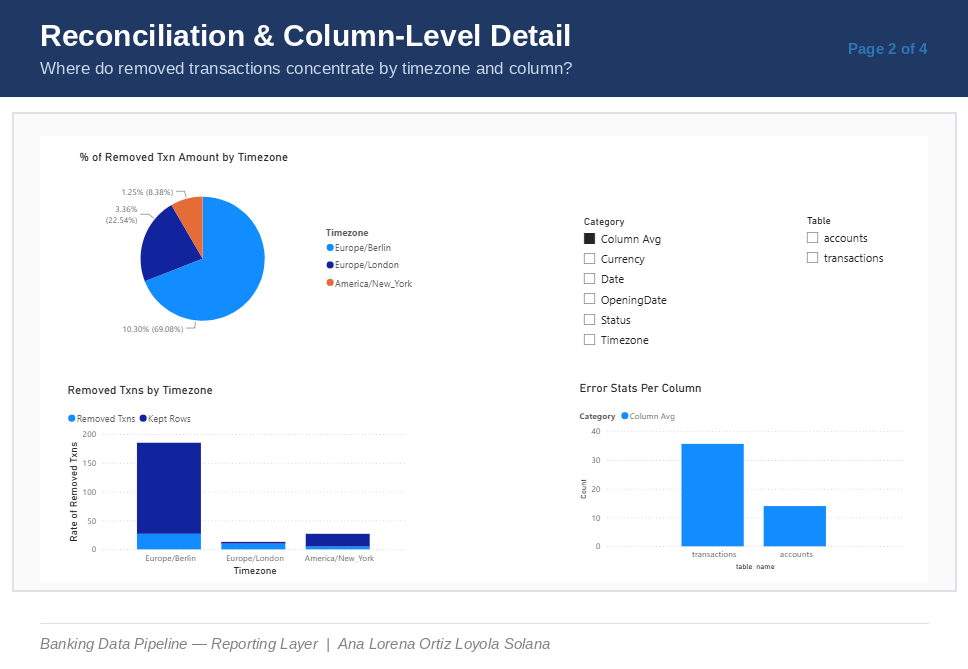

This screenshot's page, from the dashboard's own definition file:
{"tool":"powerbi","page":{"name":"Página 3","canvas":[1280,720],"ordinal":1},"visuals":[{"type":"pieChart","title":"% of Removed Txn Amount by Timezone","fields":{"Category":["MatchingTimezones.Timezone"],"Y":["Sum(MatchingTimezones.PctLostFromTotal)"]},"box":[16.5,30.1,494.8,280.5],"z":0},{"type":"columnChart","title":"Removed Txns by Timezone","fields":{"Category":["MatchingTimezones.Timezone"],"Y":["Sum(MatchingTimezones.TotalTxnsRemoved)","Sum(MatchingTimezones.TotalTxnsKept)"]},"box":[0,362.5,495,281],"z":1000},{"type":"slicer","fields":{"Values":["CategoryWithAvgPerTable.Category"]},"box":[730.3,118.4,171.1,209.2],"z":3000},{"type":"clusteredColumnChart","title":"Error Stats Per Column","fields":{"Category":["CategoryWithAvgPerTable.table_name"],"Series":["CategoryWithAvgPerTable.Category"],"Y":["Sum(CategoryWithAvgPerTable.Count)"]},"box":[731,359.3,472.7,275.1],"z":4000},{"type":"slicer","fields":{"Values":["CategoryWithAvgPerTable.table_name"]},"box":[1049.2,117.7,156.6,105.4],"z":5000}]}

Visuals, with their boxes on the page's 1280x720 design canvas (x1, y1, x2, y2). These are canvas units, not pixel positions in the 968x669 screenshot, which may show the page scaled, cropped or inside an application window:
"% of Removed Txn Amount by Timezone" pieChart: (left=16, top=30, right=511, bottom=311)
"Removed Txns by Timezone" columnChart: (left=0, top=362, right=495, bottom=644)
slicer - CategoryWithAvgPerTable.Category: (left=730, top=118, right=901, bottom=328)
"Error Stats Per Column" clusteredColumnChart: (left=731, top=359, right=1204, bottom=634)
slicer - CategoryWithAvgPerTable.table_name: (left=1049, top=118, right=1206, bottom=223)
